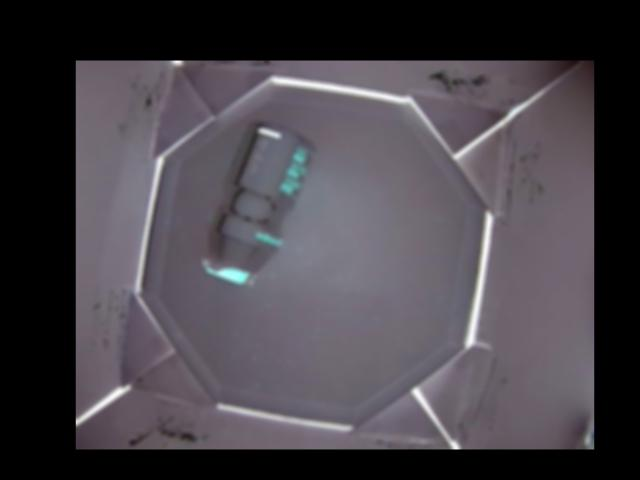Bottle: (202, 118, 318, 285)
